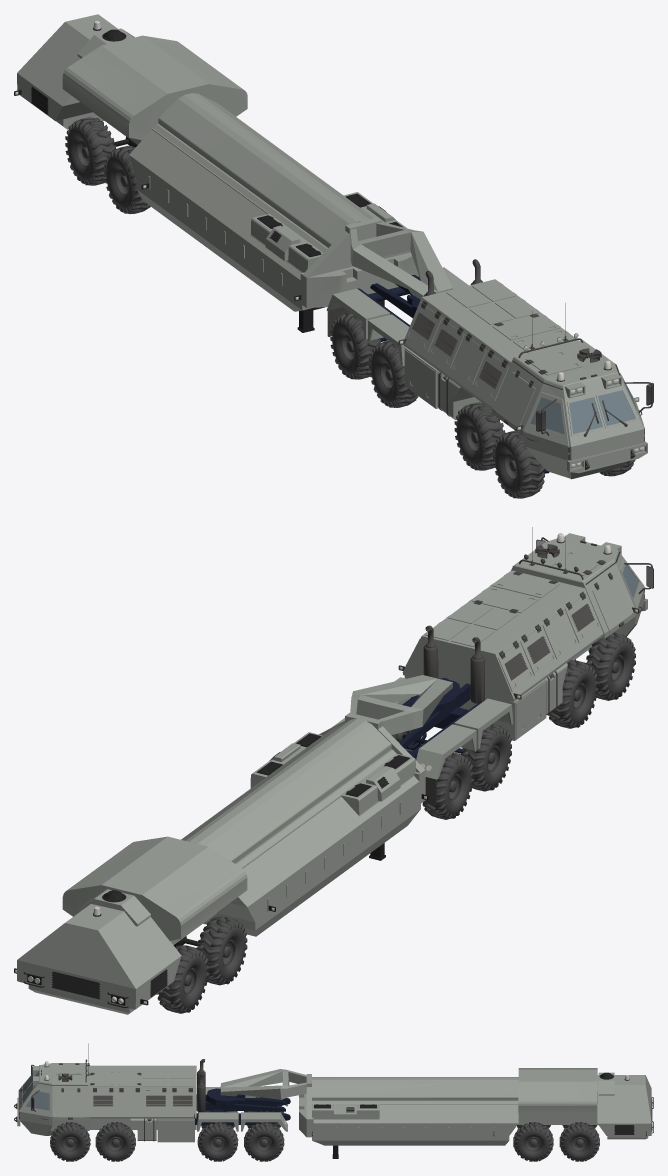
Rendered from RocketCarrier.fbx.
3 renders of one model, top to bottom at view 1: azimuth 30°, elevation 25°; view 2: azimuth 150°, elevation 25°; view 3: azimuth 270°, elevation 25°, orthographic. The views are drawn at different scales.
Parts seen in each view (by area): view 1: TrailerBody, Body, WheelTrailerR1, WheelR0, WheelR1, Windows, WheelR3, WheelR2, WheelTrailerR0; view 2: TrailerBody, Body, WheelTrailerR0, WheelR0, WheelTrailerR1, WheelR1, WheelR2, WheelR3, Details; view 3: TrailerBody, Body, WheelL3, WheelTrailerL0, WheelL0, WheelTrailerL1, WheelL1, WheelL2, Details, Windows.
Boxes of the visible parts, x1=… form: TrailerBody: x1=14, y1=14, x2=452, y2=311; Body: x1=326, y1=267, x2=653, y2=479; WheelTrailerR1: x1=65, y1=117, x2=116, y2=185; WheelR0: x1=493, y1=430, x2=544, y2=498; WheelR1: x1=454, y1=402, x2=505, y2=470; Windows: x1=530, y1=383, x2=637, y2=434; WheelR3: x1=330, y1=312, x2=380, y2=379; WheelR2: x1=369, y1=340, x2=418, y2=407; WheelTrailerR0: x1=104, y1=145, x2=150, y2=213; TrailerBody: x1=14, y1=675, x2=452, y2=1014; Body: x1=332, y1=533, x2=653, y2=779; WheelTrailerR0: x1=196, y1=916, x2=247, y2=985; WheelR0: x1=586, y1=632, x2=635, y2=700; WheelTrailerR1: x1=156, y1=945, x2=208, y2=1013; WheelR1: x1=547, y1=660, x2=597, y2=728; WheelR2: x1=461, y1=724, x2=511, y2=791; WheelR3: x1=422, y1=752, x2=473, y2=819; Details: x1=423, y1=527, x2=566, y2=703; TrailerBody: x1=220, y1=1068, x2=653, y2=1145; Body: x1=14, y1=1059, x2=290, y2=1142; WheelL3: x1=244, y1=1122, x2=284, y2=1161; WheelTrailerL0: x1=513, y1=1122, x2=553, y2=1161; WheelL0: x1=50, y1=1122, x2=90, y2=1161; WheelTrailerL1: x1=559, y1=1122, x2=599, y2=1161; WheelL1: x1=95, y1=1122, x2=135, y2=1161; WheelL2: x1=197, y1=1122, x2=238, y2=1161; Details: x1=20, y1=1043, x2=205, y2=1112; Windows: x1=22, y1=1074, x2=49, y2=1110.
Bounding box in the file's own units: 333 × 395 × 2314.
